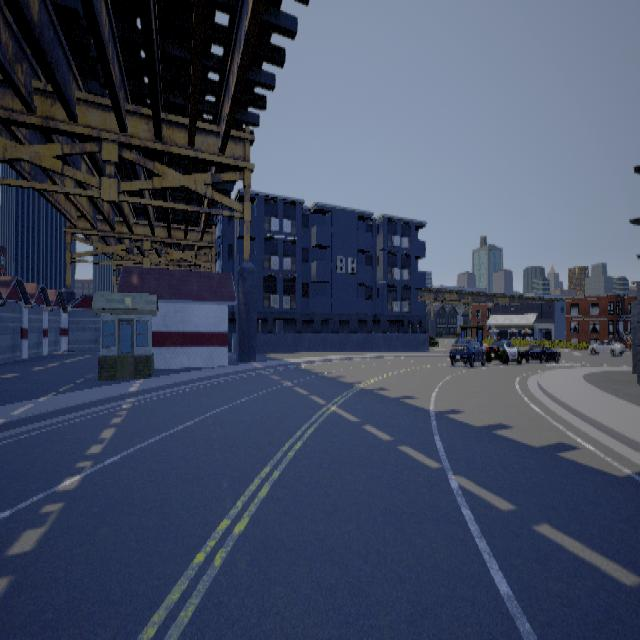vehicle: (482, 325, 521, 367), (522, 337, 562, 365), (448, 337, 485, 367), (587, 338, 625, 356)
